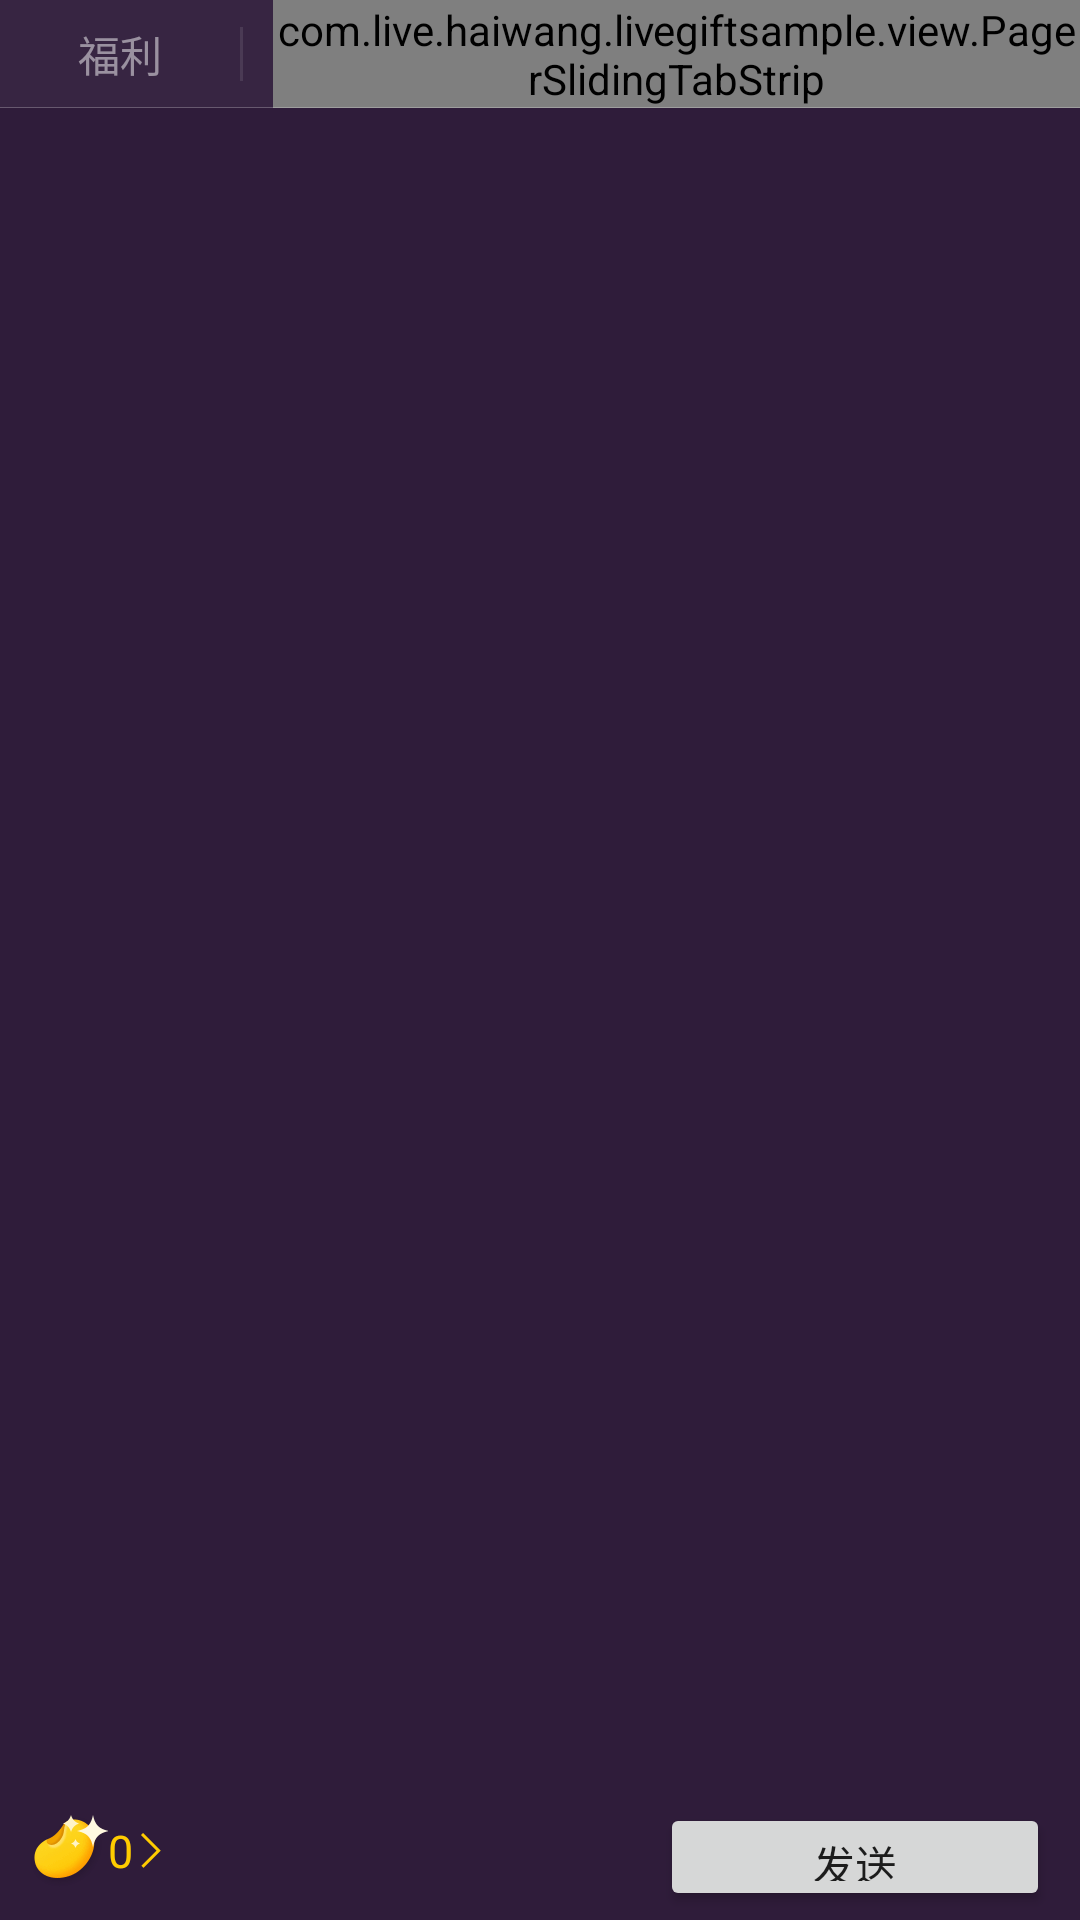

Named icons in this screenshot (1080x1920) and their centers, (x=x, y=y):
beans: (x=71, y=1846)
